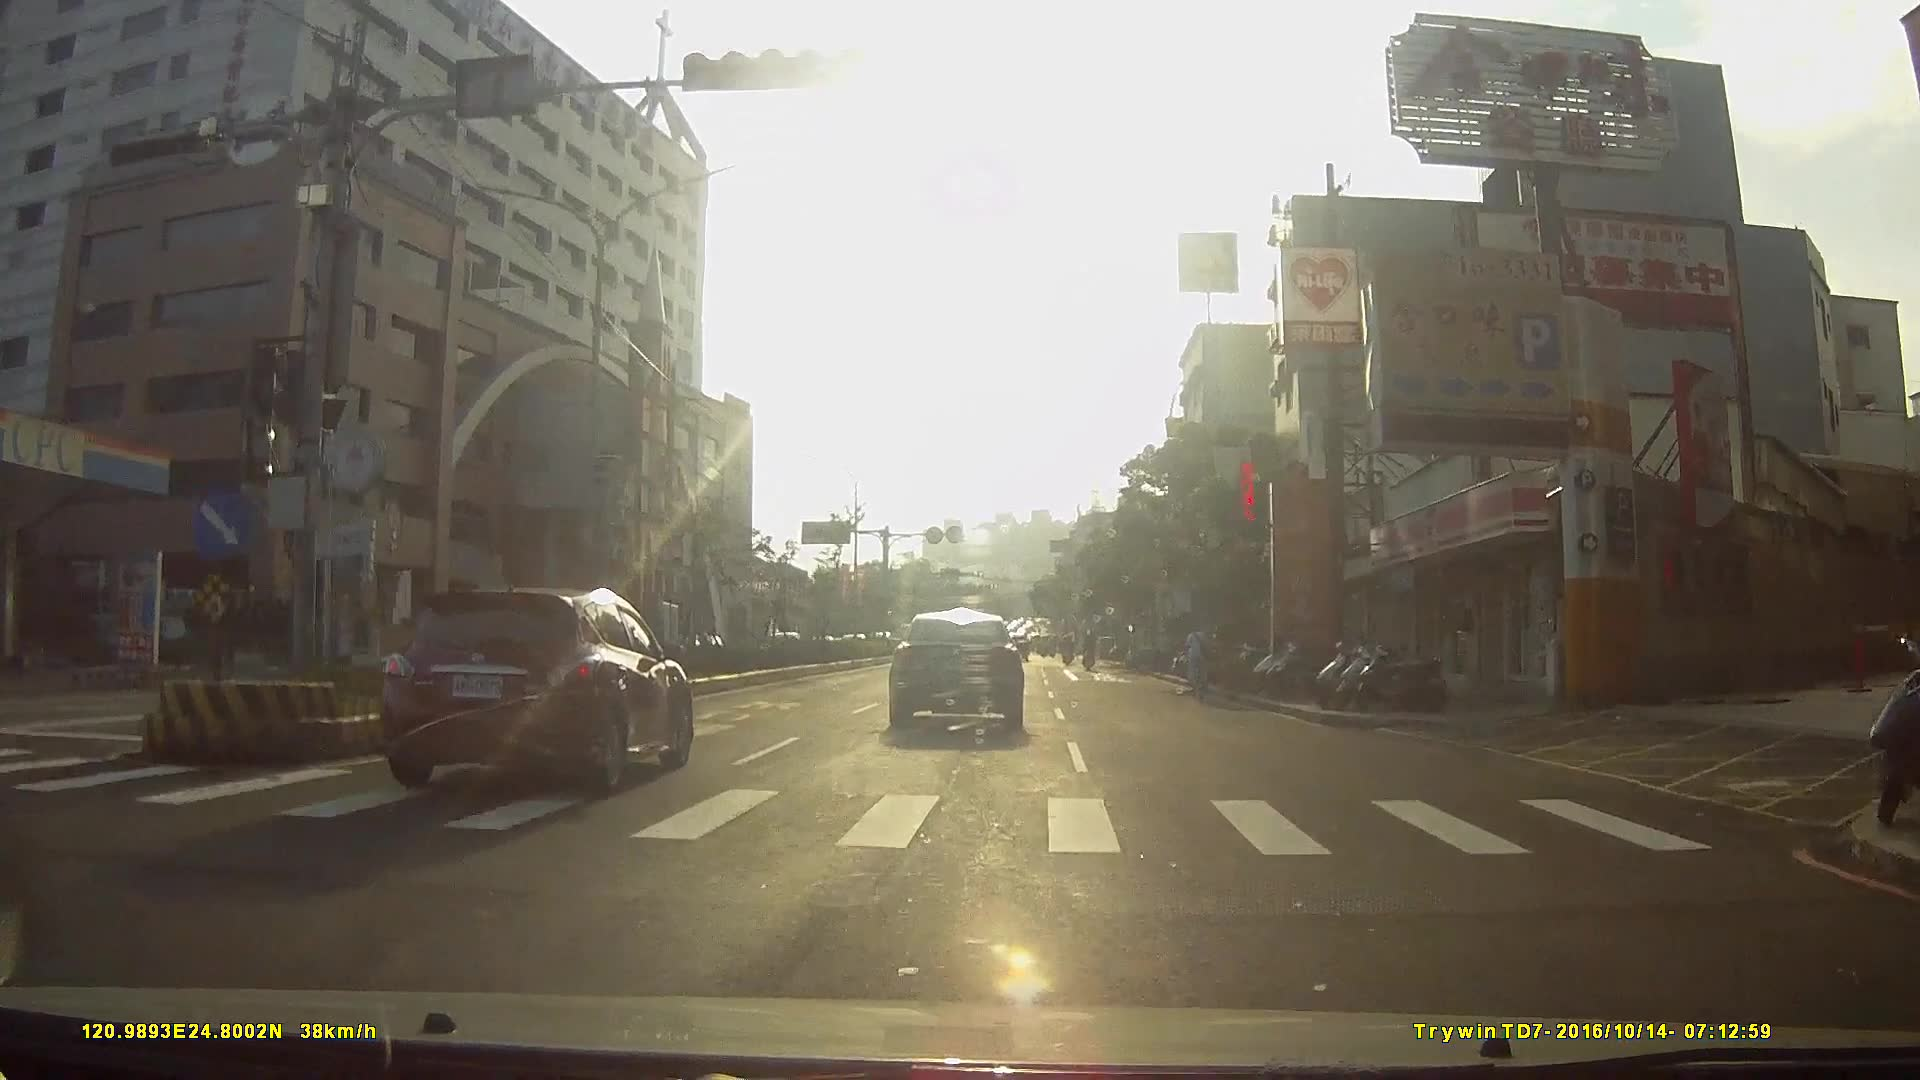rider: (1182, 618, 1215, 706)
vehicle: (369, 579, 702, 800), (885, 606, 1034, 736), (763, 607, 822, 662), (1124, 619, 1176, 673)
